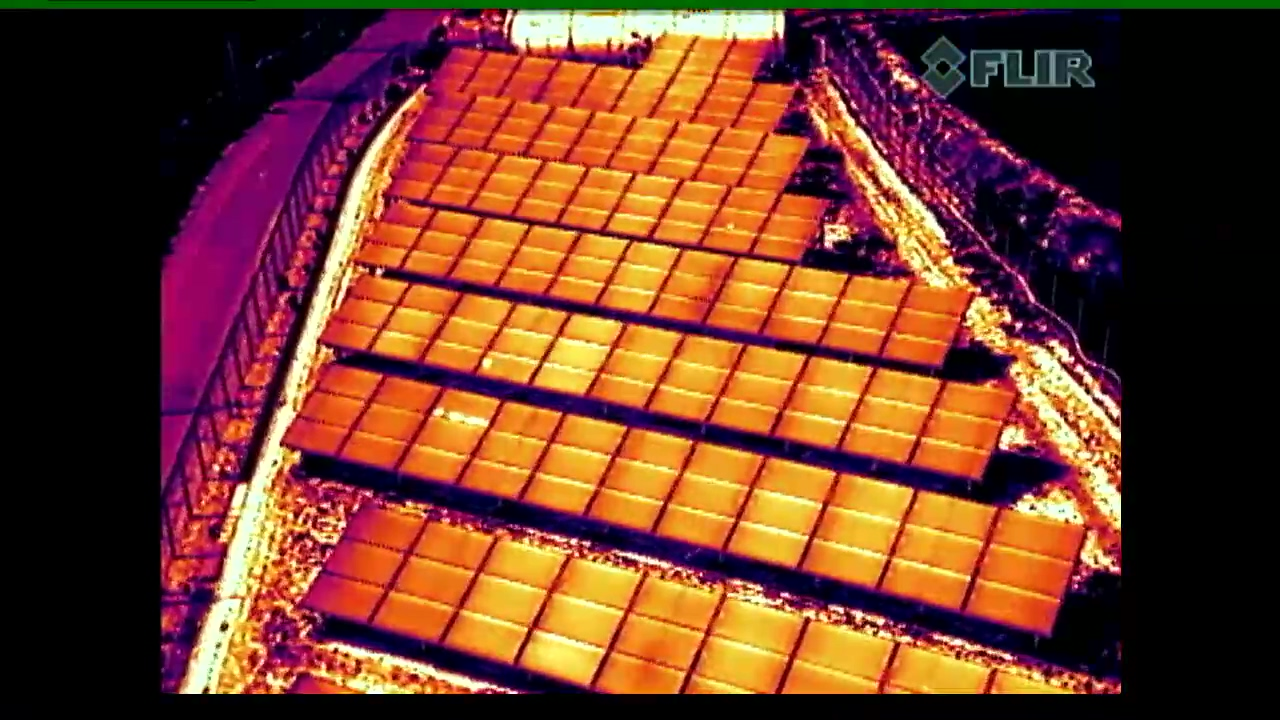hotspot: (396, 389, 499, 491), (465, 304, 569, 388), (698, 186, 782, 254)
